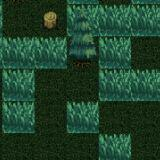Obstacle: (34, 5, 67, 36), (68, 36, 99, 68)
Slow: (67, 5, 160, 36), (0, 36, 67, 68), (99, 36, 131, 101), (2, 68, 34, 133), (68, 102, 100, 134), (131, 68, 160, 100), (100, 133, 130, 160)
